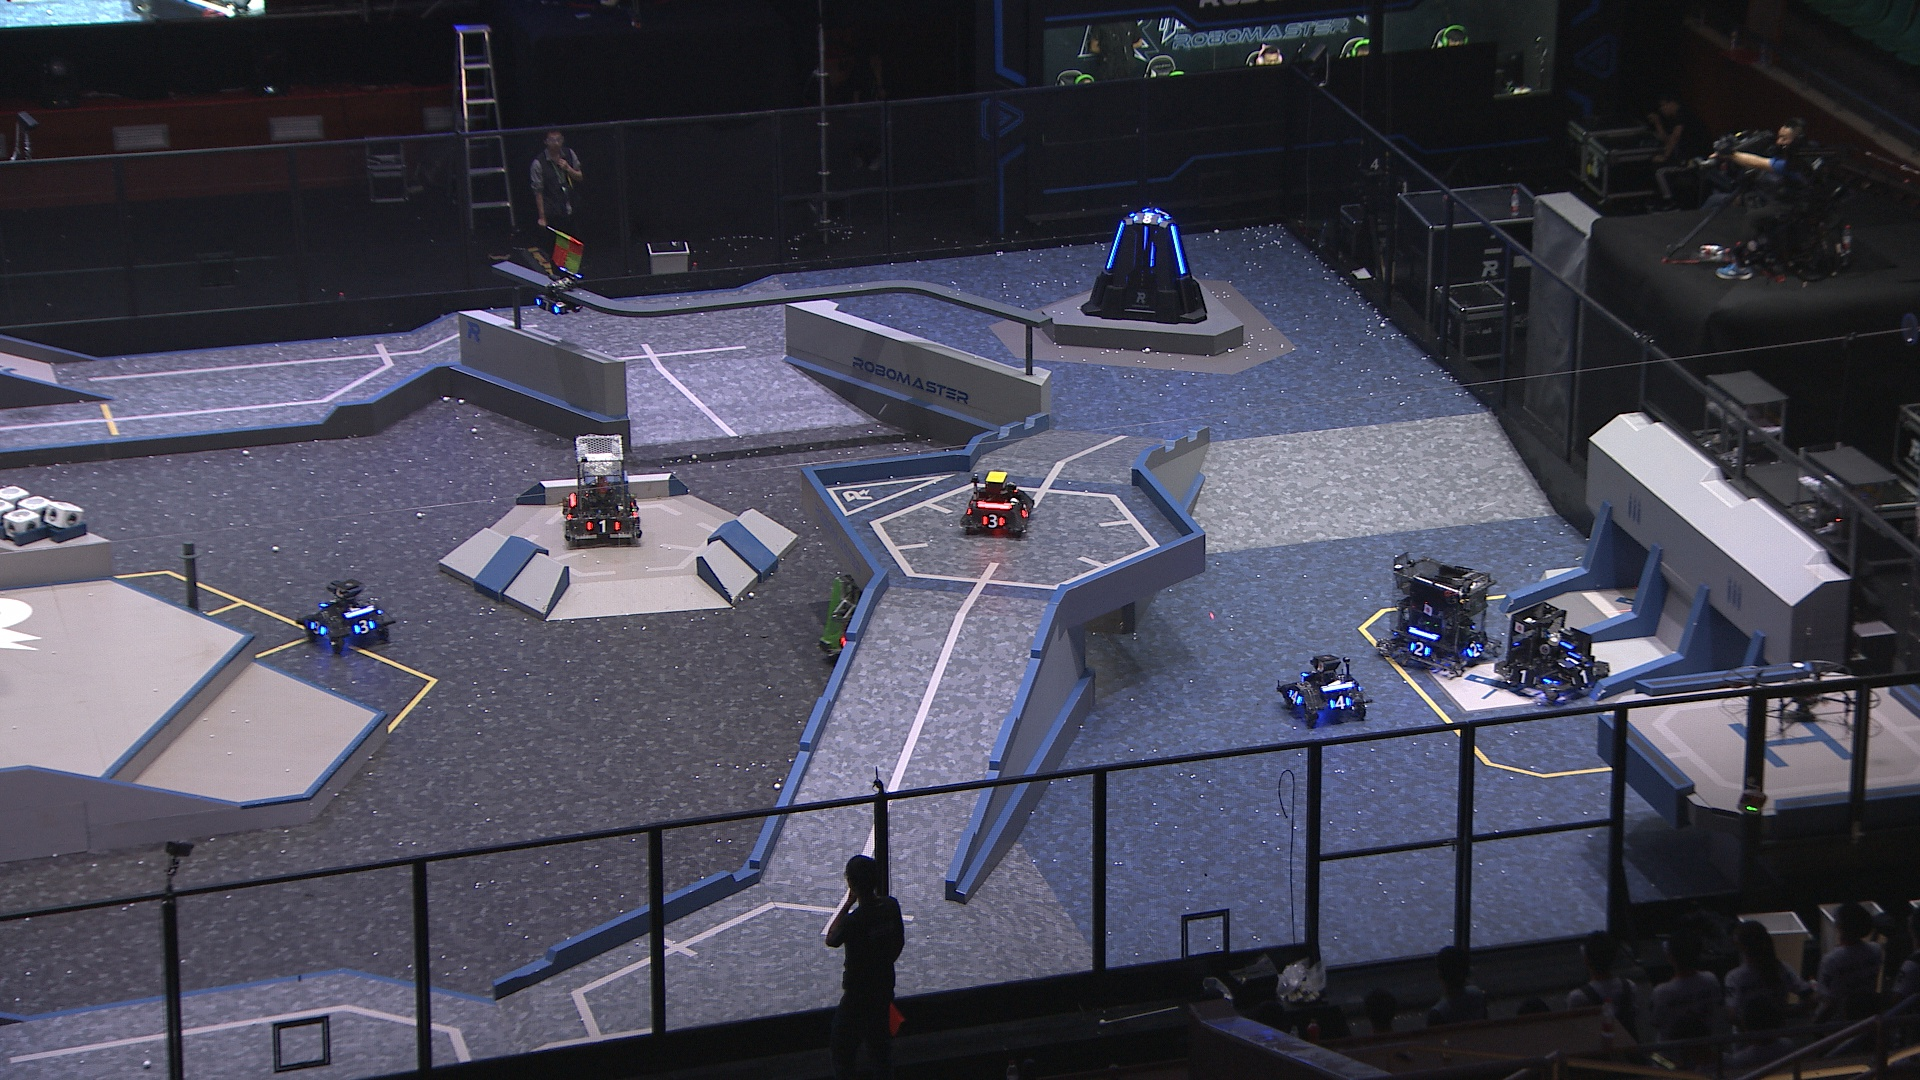armor: (1102, 219, 1127, 272), (1167, 224, 1188, 276), (585, 516, 622, 534), (978, 512, 1007, 531), (1556, 647, 1581, 670), (1509, 666, 1538, 684), (1569, 669, 1596, 688), (1408, 640, 1433, 659), (534, 297, 560, 315), (1284, 684, 1304, 707), (1134, 211, 1164, 225), (1329, 694, 1353, 712), (306, 618, 328, 637), (353, 617, 375, 636), (1462, 641, 1486, 657), (1139, 225, 1150, 253), (1019, 500, 1033, 518)
base: (1077, 207, 1209, 322)
car: (1373, 553, 1498, 678), (816, 570, 935, 679), (1493, 599, 1610, 705), (560, 433, 644, 547), (295, 578, 401, 650), (1273, 651, 1371, 727), (960, 469, 1038, 541)
watcher: (531, 264, 585, 316)
